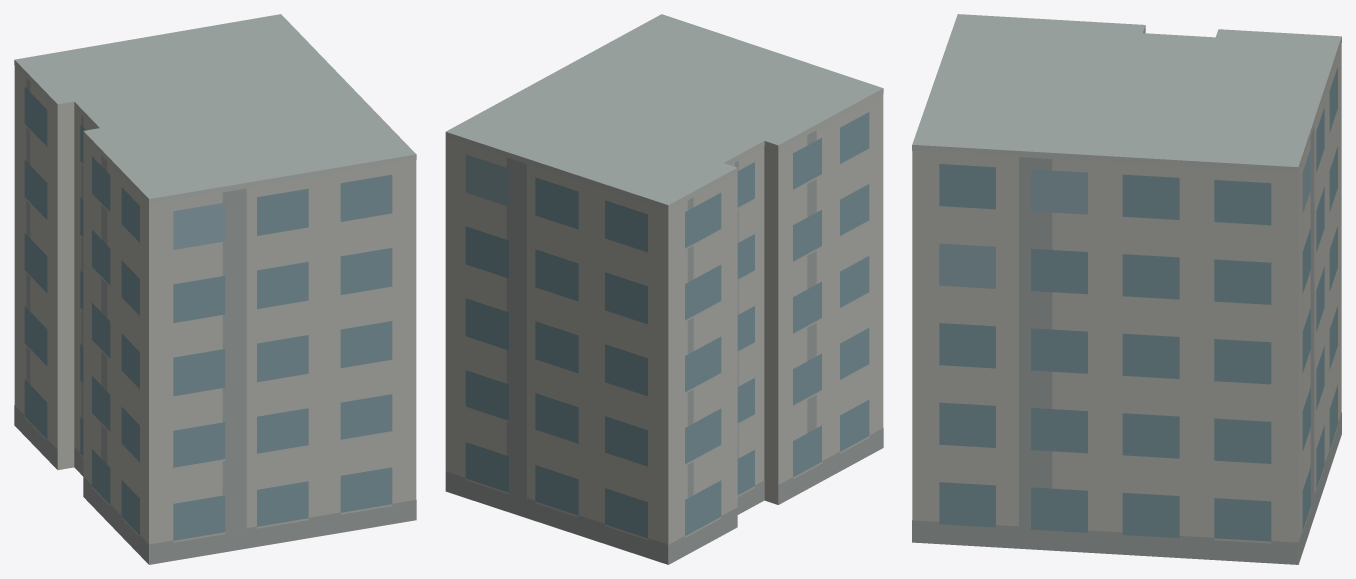
Rendered from survey-upis-32542072.glb.
The picture shows the model from 3 angles, left to right: view 1: azimuth 30°, elevation 25°; view 2: azimuth 150°, elevation 25°; view 3: azimuth 270°, elevation 25°; orthographic projection. The views are drawn at different scales.
Visible parts, largest first — view 1: survey-upis-32542072.tmp; view 2: survey-upis-32542072.tmp; view 3: survey-upis-32542072.tmp.
Part boxes in pixels (x1,y1,x2,y2): survey-upis-32542072.tmp: (14,14,416,564); survey-upis-32542072.tmp: (445,14,883,564); survey-upis-32542072.tmp: (912,14,1341,564).
Size of the model in its own units: 12.97 by 15.7 by 15.38.
